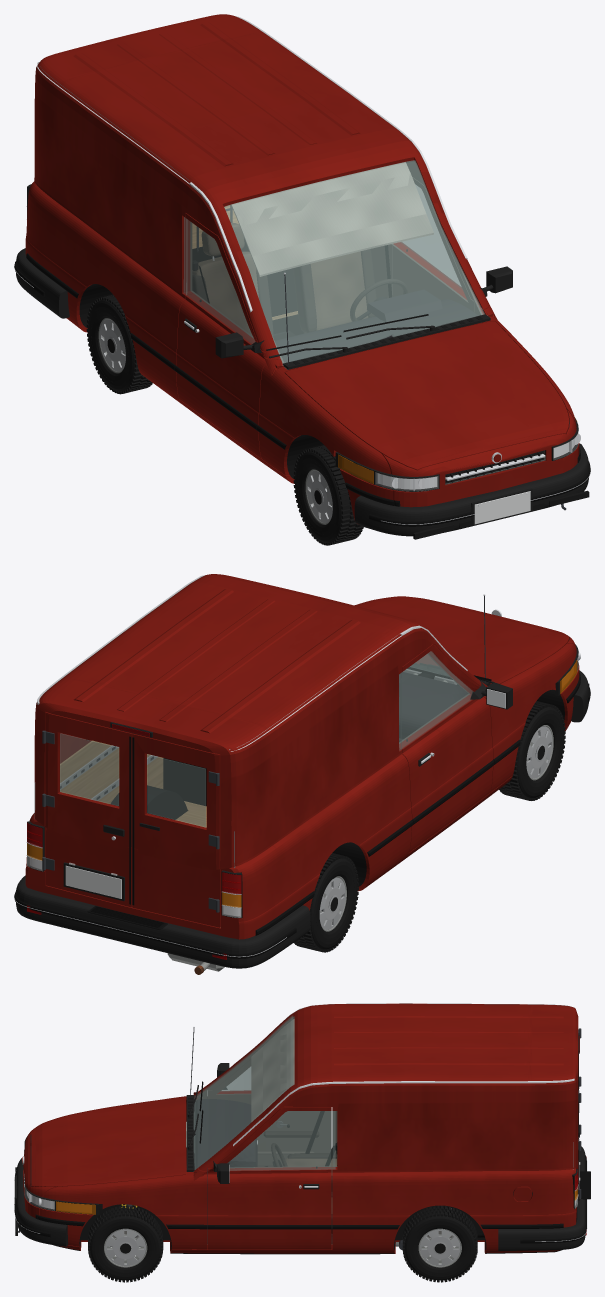
The model's file is van_jornada.glb.
3 views of the same model, one above another, from view 1: azimuth 30°, elevation 25°; view 2: azimuth 150°, elevation 25°; view 3: azimuth 270°, elevation 25° (orthographic). The views are drawn at different scales.
Parts seen in each view (by area): view 1: van_jornada_pintura, van_jornada_para_brisa_vidro, van_jornada_capo_pintura, van_jornada_forro_teto, van_jornada_porta_dd_pintura, van_jornada_paralama_d_pintura, van_jornada_painel, van_jornada_para_choque_d_plastico_preto, van_jornada_porta_dd_vidro, van_jornada_roda_dd_pneu, van_jornada_banco_motorista_tecido_banco, van_jornada_roda_td_pneu (+21 smaller); view 2: van_jornada_pintura, van_jornada_porta_td_pintura, van_jornada_porta_te_pintura, van_jornada_porta_dd_pintura, van_jornada_capo_pintura, van_jornada_para_choque_t_plastico_preto, van_jornada_paralama_d_pintura, van_jornada_porta_dd_vidro, van_jornada_porta_te_vidro, van_jornada_porta_td_vidro, van_jornada_madeira_crua, van_jornada_roda_dd_pneu (+15 smaller); view 3: van_jornada_pintura, van_jornada_capo_pintura, van_jornada_porta_de_pintura, van_jornada_para_brisa_vidro, van_jornada_paralama_e_pintura, van_jornada_porta_de_vidro, van_jornada_roda_te_pneu, van_jornada_roda_de_pneu, van_jornada_painel, van_jornada_porta_dd_forro_porta, van_jornada_forro_teto, van_jornada_para_choque_t_plastico_preto (+14 smaller).
Part boxes in pixels (left/top/right/bottom): van_jornada_pintura: left=25, top=14, right=578, bottom=524; van_jornada_para_brisa_vidro: left=224, top=160, right=487, bottom=365; van_jornada_capo_pintura: left=285, top=321, right=568, bottom=470; van_jornada_forro_teto: left=231, top=162, right=433, bottom=276; van_jornada_porta_dd_pintura: left=176, top=213, right=266, bottom=458; van_jornada_paralama_d_pintura: left=258, top=357, right=393, bottom=518; van_jornada_painel: left=275, top=289, right=477, bottom=369; van_jornada_para_choque_d_plastico_preto: left=354, top=443, right=588, bottom=536; van_jornada_porta_dd_vidro: left=186, top=219, right=255, bottom=344; van_jornada_roda_dd_pneu: left=293, top=445, right=363, bottom=545; van_jornada_banco_motorista_tecido_banco: left=310, top=251, right=368, bottom=330; van_jornada_roda_td_pneu: left=86, top=294, right=152, bottom=394; van_jornada_pintura: left=25, top=574, right=576, bottom=939; van_jornada_porta_td_pintura: left=132, top=733, right=220, bottom=927; van_jornada_porta_te_pintura: left=45, top=712, right=132, bottom=907; van_jornada_porta_dd_pintura: left=399, top=644, right=492, bottom=852; van_jornada_capo_pintura: left=355, top=596, right=568, bottom=684; van_jornada_para_choque_t_plastico_preto: left=16, top=875, right=310, bottom=968; van_jornada_paralama_d_pintura: left=484, top=643, right=579, bottom=792; van_jornada_porta_dd_vidro: left=401, top=651, right=473, bottom=748; van_jornada_porta_te_vidro: left=60, top=733, right=118, bottom=805; van_jornada_porta_td_vidro: left=147, top=754, right=205, bottom=827; van_jornada_madeira_crua: left=60, top=740, right=220, bottom=927; van_jornada_roda_dd_pneu: left=499, top=701, right=565, bottom=800; van_jornada_pintura: left=22, top=1003, right=578, bottom=1253; van_jornada_capo_pintura: left=31, top=1096, right=185, bottom=1186; van_jornada_porta_de_pintura: left=207, top=1106, right=331, bottom=1249; van_jornada_para_brisa_vidro: left=193, top=1015, right=293, bottom=1169; van_jornada_paralama_e_pintura: left=39, top=1168, right=207, bottom=1249; van_jornada_porta_de_vidro: left=228, top=1111, right=331, bottom=1170; van_jornada_roda_te_pneu: left=402, top=1205, right=477, bottom=1282; van_jornada_roda_de_pneu: left=88, top=1205, right=163, bottom=1282; van_jornada_painel: left=194, top=1097, right=257, bottom=1228; van_jornada_porta_dd_forro_porta: left=207, top=1059, right=331, bottom=1166; van_jornada_forro_teto: left=251, top=1019, right=294, bottom=1121; van_jornada_para_choque_t_plastico_preto: left=498, top=1146, right=585, bottom=1250.
Size of the model in its own units: 2.07 by 1.81 by 4.68.
46 materials, 8 textured.
